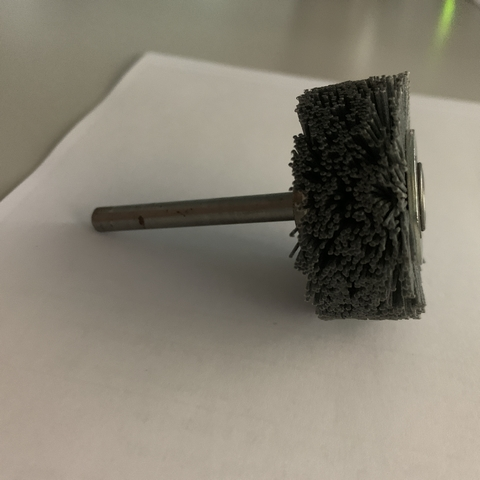Wheel Brush: (78, 69, 440, 353), (141, 61, 445, 337), (86, 75, 435, 309)
